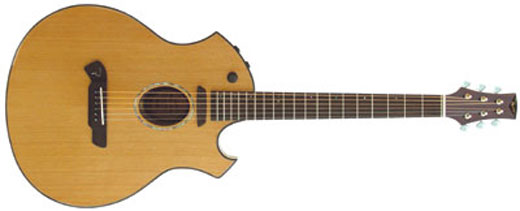guitar: (1, 4, 519, 211)
